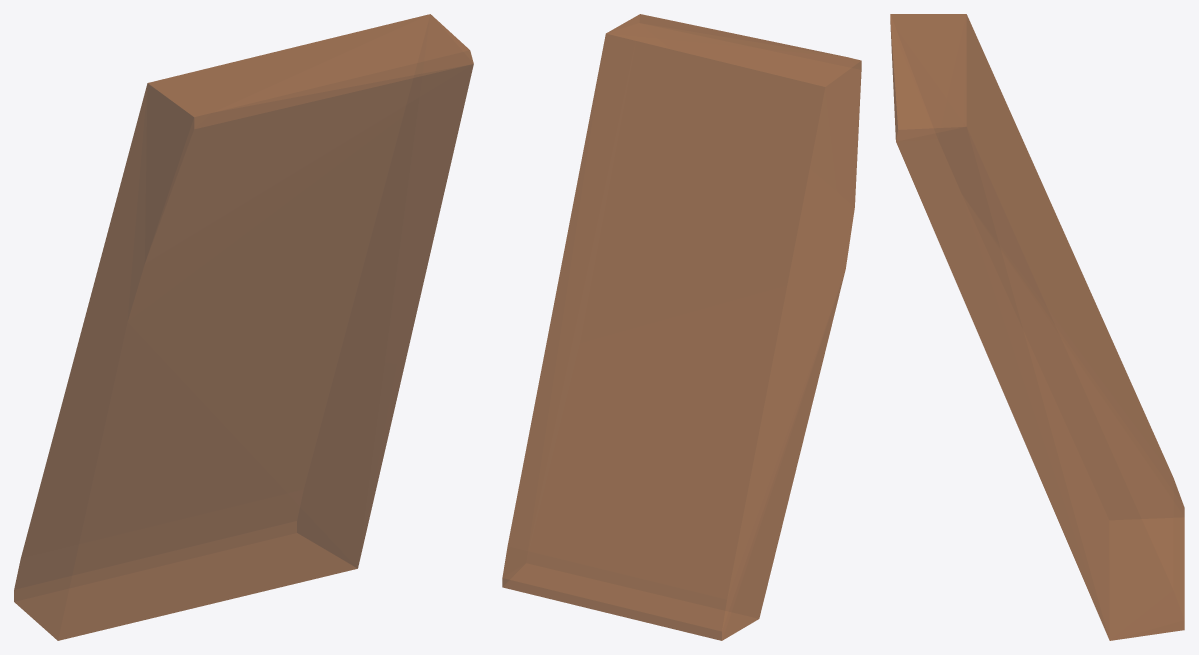
3 renders of one model, left to right at view 1: azimuth 30°, elevation 25°; view 2: azimuth 150°, elevation 25°; view 3: azimuth 270°, elevation 25°, orthographic. The views are drawn at different scales.
Parts seen in each view (by area): view 1: Shape_IndexedFaceSet.005_Shape_IndexedFaceSet.410; view 2: Shape_IndexedFaceSet.005_Shape_IndexedFaceSet.410; view 3: Shape_IndexedFaceSet.005_Shape_IndexedFaceSet.410.
Boxes of the visible parts, left/top/right/bottom form: Shape_IndexedFaceSet.005_Shape_IndexedFaceSet.410: left=14, top=14, right=473, bottom=640; Shape_IndexedFaceSet.005_Shape_IndexedFaceSet.410: left=502, top=14, right=861, bottom=640; Shape_IndexedFaceSet.005_Shape_IndexedFaceSet.410: left=890, top=14, right=1184, bottom=640.
Size of the model in its own units: 0.2019 by 0.3739 by 0.1961.
